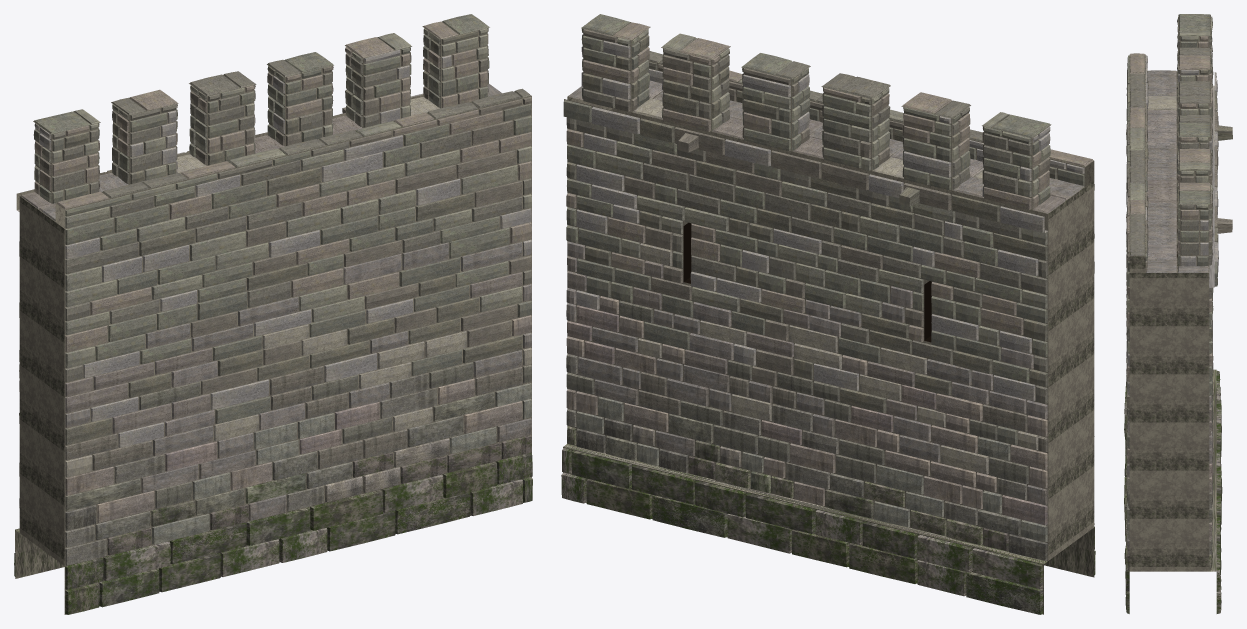
The model's file is town_wall_long.glb.
3 renders of one model, left to right at view 1: azimuth 30°, elevation 25°; view 2: azimuth 150°, elevation 25°; view 3: azimuth 270°, elevation 25°, orthographic. The views are drawn at different scales.
Visible parts, largest first — view 1: town_wall_long; view 2: town_wall_long; view 3: town_wall_long.
Boxes of the visible parts, x1=… form: town_wall_long: x1=14, y1=14, x2=532, y2=614; town_wall_long: x1=561, y1=14, x2=1095, y2=614; town_wall_long: x1=1124, y1=14, x2=1232, y2=613.
Bounding box in the file's own units: 9 × 8.45 × 2.05.
Materials: 3 (3 with a texture image).
